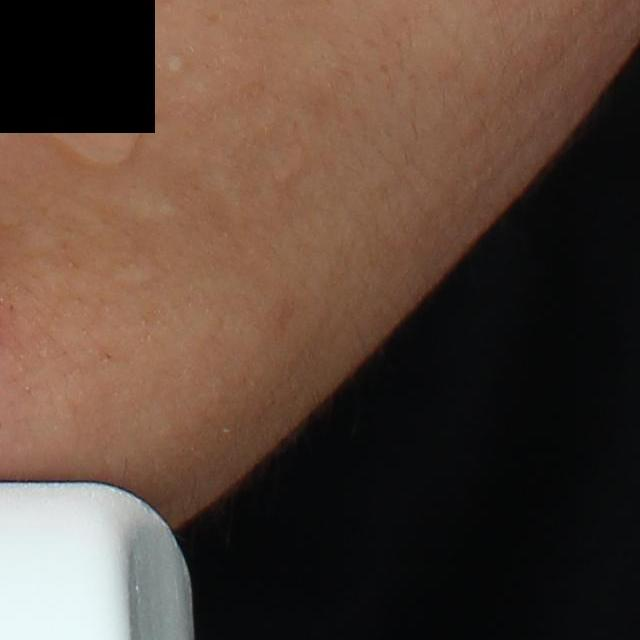comedo: (166, 51, 184, 73)
hypertrophic_scar: (112, 261, 162, 290)
